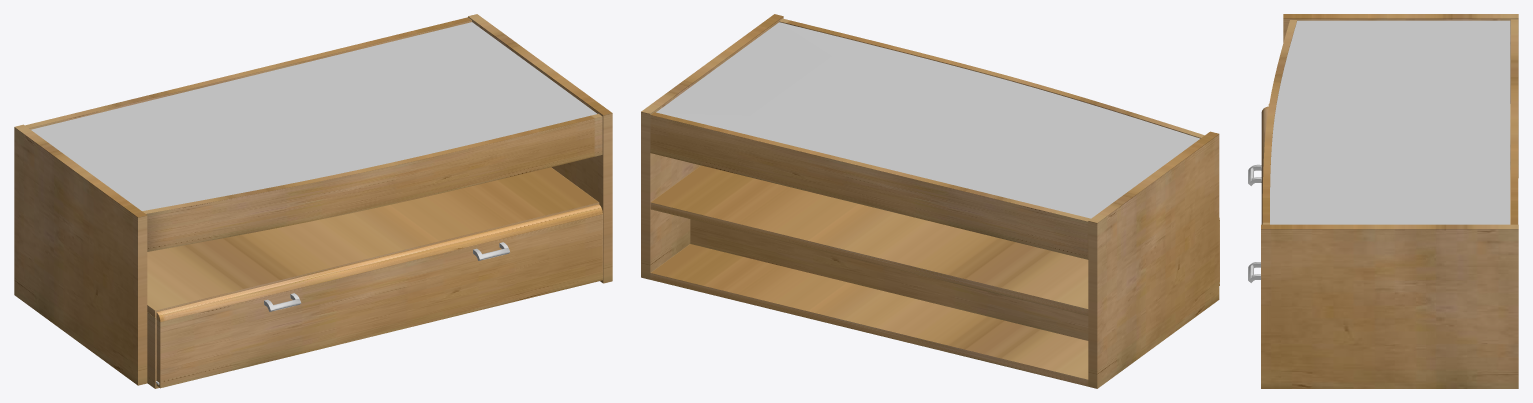
Rendered from sweethome3d-contributions-coffee-table-340.glb.
The picture shows the model from 3 angles, left to right: view 1: azimuth 30°, elevation 25°; view 2: azimuth 150°, elevation 25°; view 3: azimuth 270°, elevation 25°; orthographic projection. The views are drawn at different scales.
Parts seen in each view (by area): view 1: Boolean_1_9, Cube_8_11, Cube_1_1, Cube_4_4, Extruded_Object_4_8, Boolean_2_13, Cube_3_3, Cube_2_2, Cube_5_5; view 2: Boolean_1_9, Cube_4_4, Cube_1_1, Cube_7_7, Cube_2_2, Cube_6_6, Cube_3_3, Extruded_Object_4_8; view 3: Boolean_1_9, Cube_3_3, Cube_1_1, Cube_2_2, Extruded_Object_4_8, Boolean_2_13.
Part boxes in pixels (left/top/right/bottom): Boolean_1_9: left=31, top=22, right=597, bottom=210; Cube_8_11: left=156, top=214, right=602, bottom=388; Cube_1_1: left=14, top=124, right=147, bottom=385; Cube_4_4: left=147, top=167, right=599, bottom=317; Extruded_Object_4_8: left=142, top=113, right=602, bottom=251; Boolean_2_13: left=156, top=204, right=602, bottom=321; Cube_3_3: left=468, top=14, right=612, bottom=283; Cube_2_2: left=25, top=17, right=471, bottom=129; Cube_5_5: left=147, top=312, right=159, bottom=388; Boolean_1_9: left=656, top=22, right=1199, bottom=218; Cube_4_4: left=650, top=165, right=1088, bottom=315; Cube_1_1: left=1088, top=131, right=1219, bottom=388; Cube_7_7: left=650, top=244, right=1088, bottom=386; Cube_2_2: left=650, top=112, right=1090, bottom=259; Cube_6_6: left=690, top=219, right=1088, bottom=340; Cube_3_3: left=641, top=14, right=783, bottom=279; Extruded_Object_4_8: left=779, top=18, right=1204, bottom=138; Boolean_1_9: left=1270, top=20, right=1510, bottom=224; Cube_3_3: left=1261, top=224, right=1518, bottom=388; Cube_1_1: left=1283, top=14, right=1518, bottom=177; Cube_2_2: left=1511, top=19, right=1518, bottom=224; Extruded_Object_4_8: left=1262, top=20, right=1297, bottom=224; Boolean_2_13: left=1261, top=106, right=1268, bottom=224.
Bounding box in the file's own units: 113 × 39.14 × 59.83.
4 materials, 2 textured.
